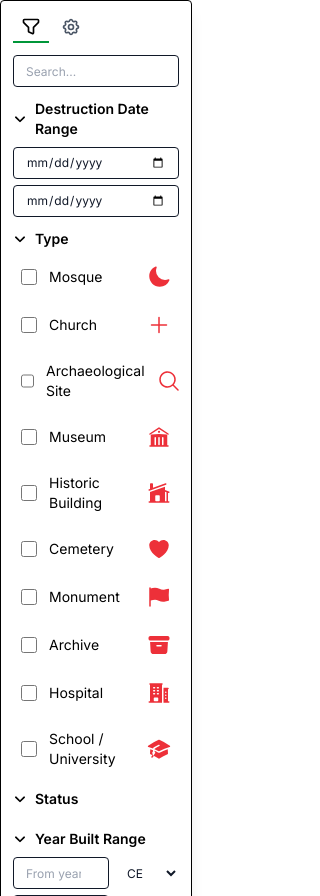
Test case: FilterBar › Sidebar Settings tab › swaps the sidebar body to the settings content when the Settings tab is clicked
Click the tab named "Settings": (71, 28) [53,13,89,43]
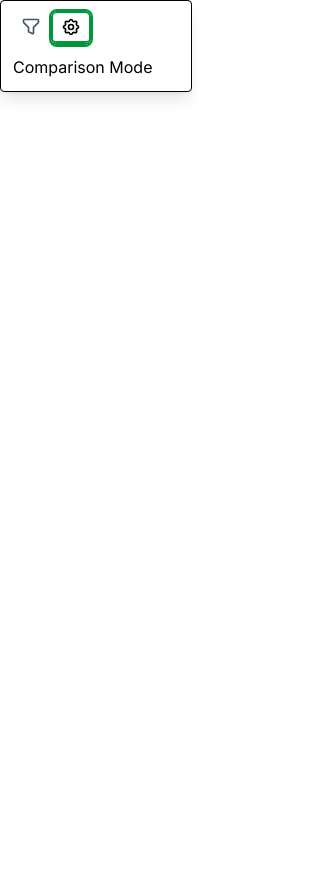
Check: the text "Comparison Mode" is shown, box [13,57,152,77]
Check: the heading "Type" is gone
